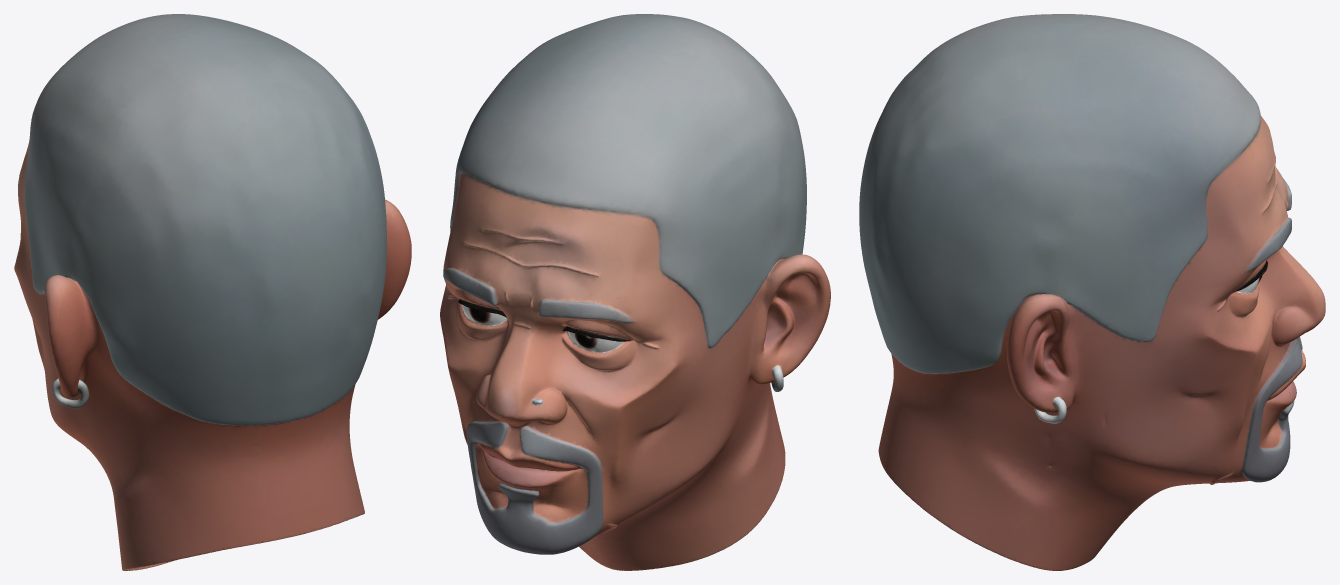
Rendered from sample2.glb.
The picture shows the model from 3 angles, left to right: view 1: azimuth 30°, elevation 25°; view 2: azimuth 150°, elevation 25°; view 3: azimuth 270°, elevation 25°; orthographic projection.
Parts seen in each view (by area): view 1: world; view 2: world; view 3: world.
Part boxes in pixels (box(x1,y1,x2,y2)): world: box(14, 14, 411, 570); world: box(440, 14, 830, 570); world: box(859, 14, 1325, 570).
Size of the model in its own units: 0.6312 by 0.8844 by 0.7139.
Materials: 1 (1 with a texture image).
